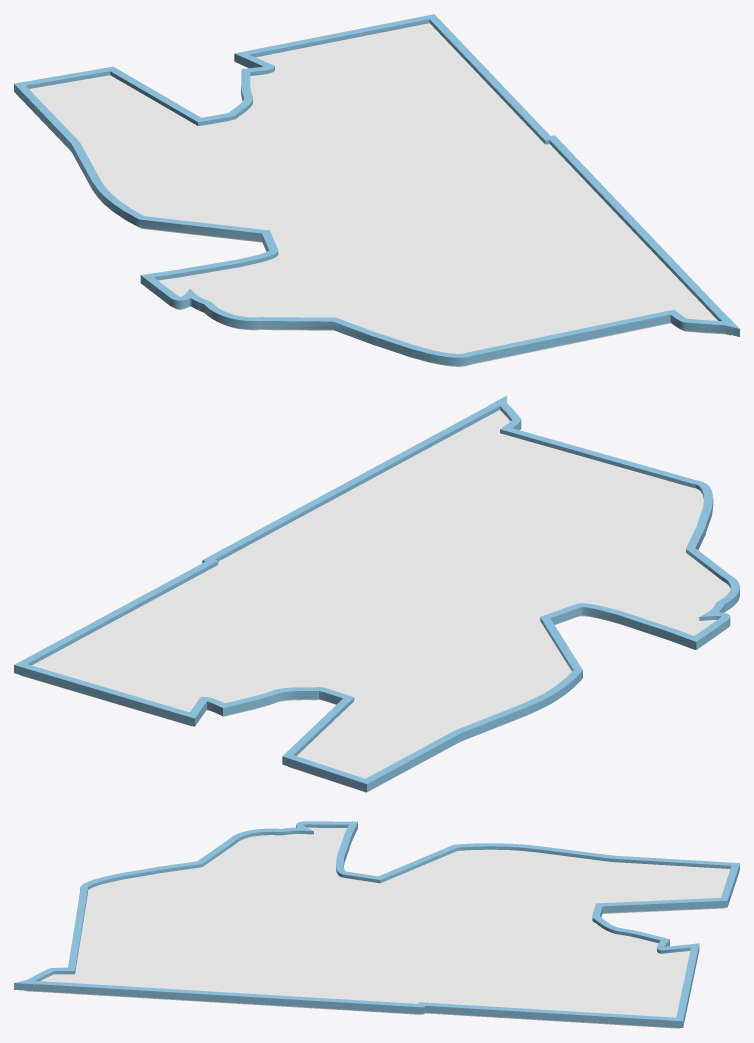
The picture shows the model from 3 angles, top to bottom: view 1: azimuth 30°, elevation 25°; view 2: azimuth 150°, elevation 25°; view 3: azimuth 270°, elevation 25°; orthographic projection. The views are drawn at different scales.
Parts seen in each view (by area): view 1: celling, scan, slide; view 2: celling, scan, slide; view 3: celling, scan, slide.
Boxes of the visible parts, left/top/right/bottom form: celling: left=29, top=23, right=717, bottom=353; scan: left=14, top=14, right=739, bottom=365; slide: left=141, top=65, right=730, bottom=366; celling: left=32, top=410, right=730, bottom=778; scan: left=14, top=395, right=739, bottom=792; slide: left=20, top=615, right=694, bottom=792; celling: left=40, top=827, right=730, bottom=1017; scan: left=14, top=821, right=739, bottom=1027; slide: left=25, top=907, right=724, bottom=1028.
Bounding box in the file's own units: 7941 × 171 × 12181.
